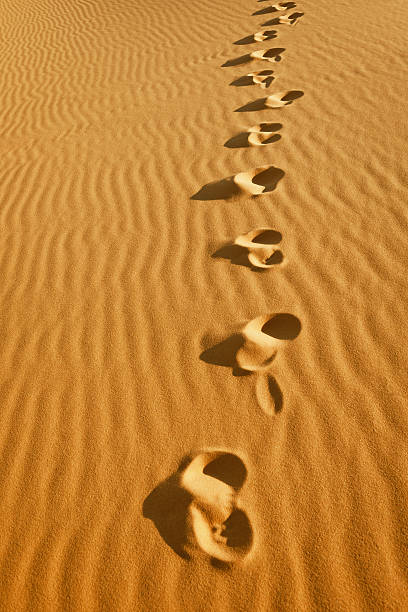human_foot_print: (143, 449, 253, 563), (200, 312, 301, 414), (236, 313, 301, 371), (191, 165, 284, 200), (212, 227, 282, 269), (224, 122, 282, 147), (235, 90, 303, 111), (222, 47, 284, 66), (230, 69, 274, 88), (234, 29, 278, 45), (261, 11, 303, 26), (252, 1, 295, 15)
